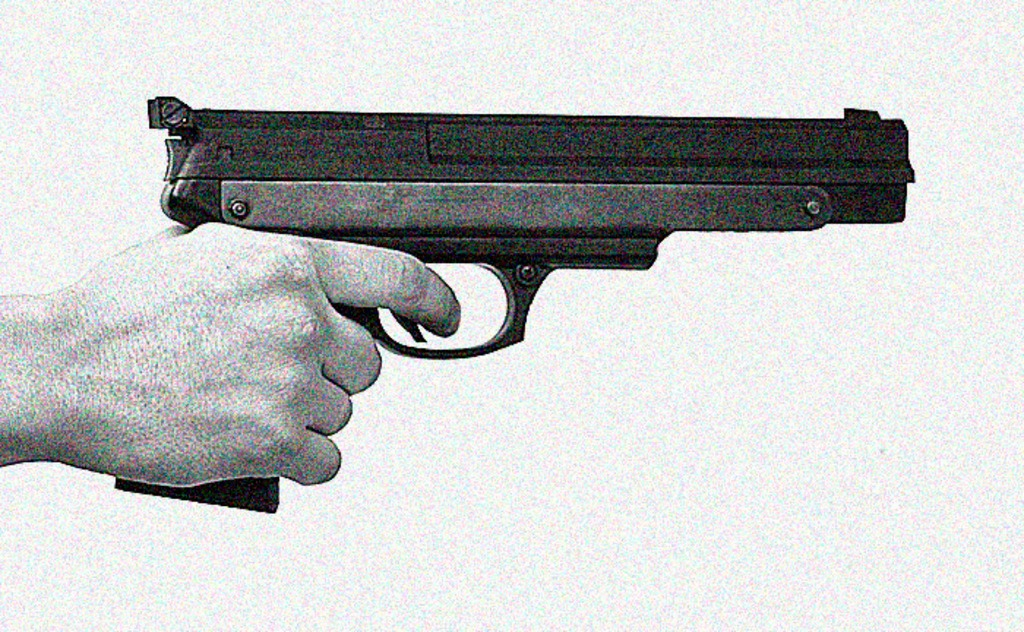gun: (112, 29, 986, 519)
